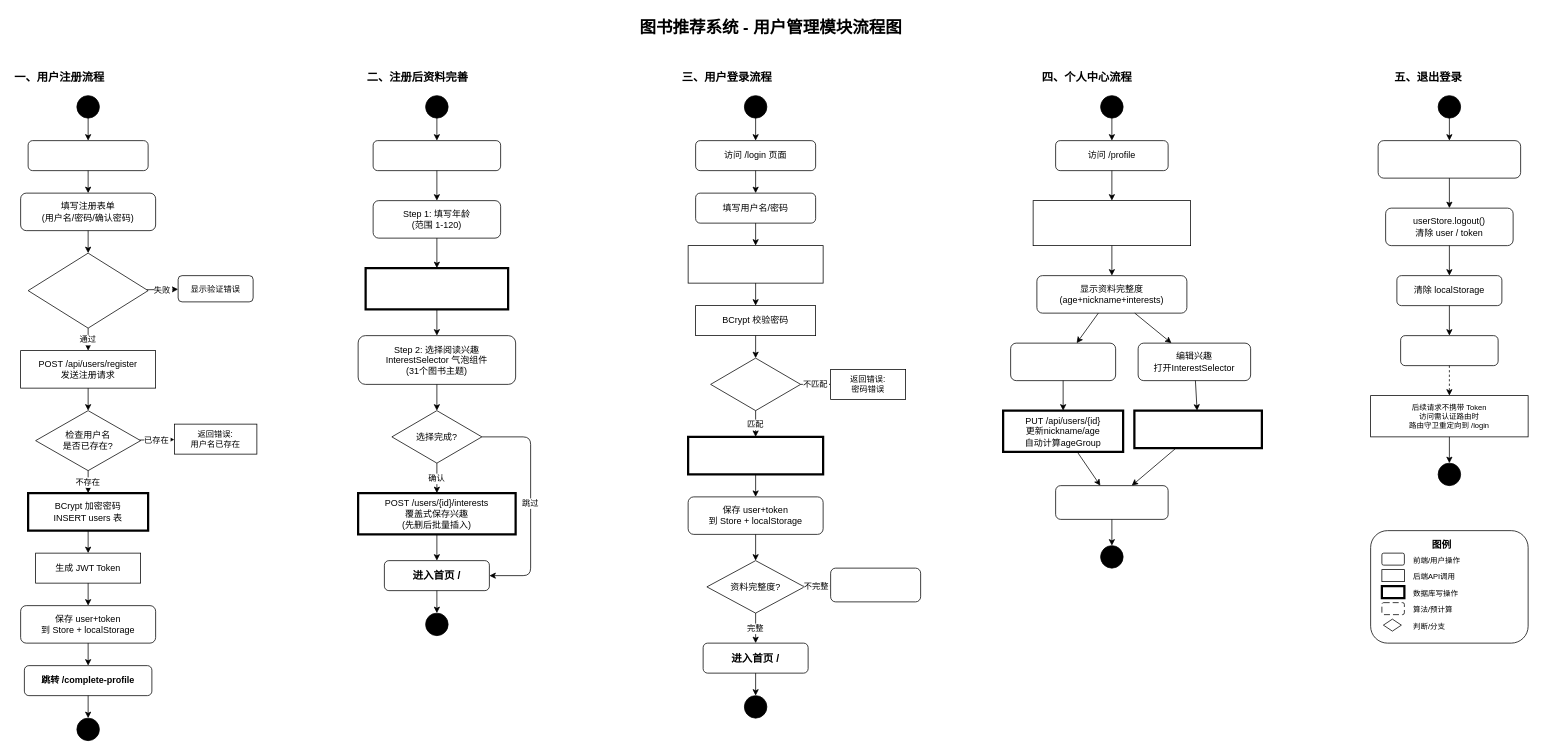
Some shapes in this 1541 by 754 pixel diagram are drawn without their labels. Here are the shapes that lost their labels. From the top down, the centre of each, then its label:
At [87,155]: "访问 /register 页面".
At [436,155]: "进入 /complete-profile".
At [1449,159]: "点击 Header 下拉菜单 [退出登录]".
At [1111,223]: "加载用户信息+兴趣列表 GET /api/users/{id} GET /users/{id}/interests".
At [755,264]: "POST /api/users/login 发送登录请求".
At [87,290]: "前端表单验证 用户名3-20字符 密码6+字符".
At [436,288]: "PUT /api/users/{id} 更新年龄 自动计算 ageGroup".
At [1063,361]: "编辑昵称/年龄 点击[保存更改]".
At [1449,350]: "跳转首页 /".
At [755,384]: "密码匹配?".
At [1198,429]: "POST /users/{id}/interests 覆盖式保存兴趣".
At [755,455]: "UPDATE lastLoginAt 生成 JWT Token".
At [1111,502]: "更新 Store 刷新页面数据".
At [875,584]: "跳转 /profile 提示完善资料".
